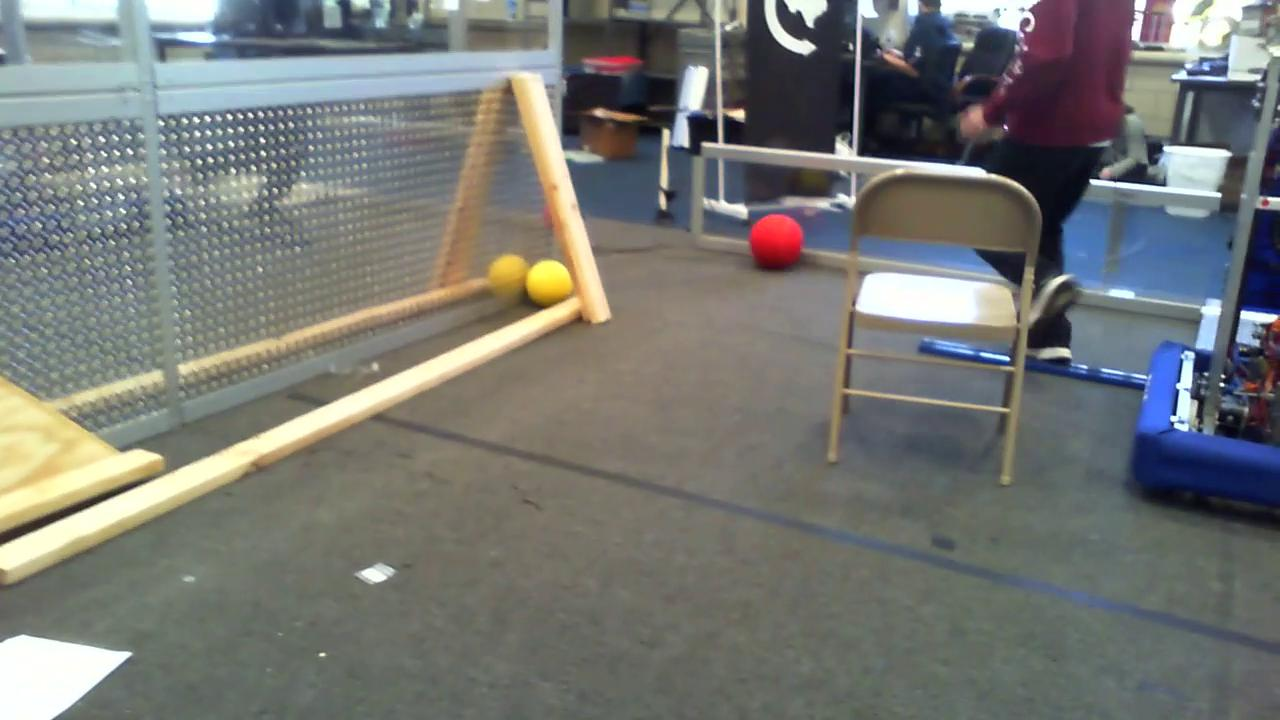Red_Ball: (739, 208, 811, 273)
